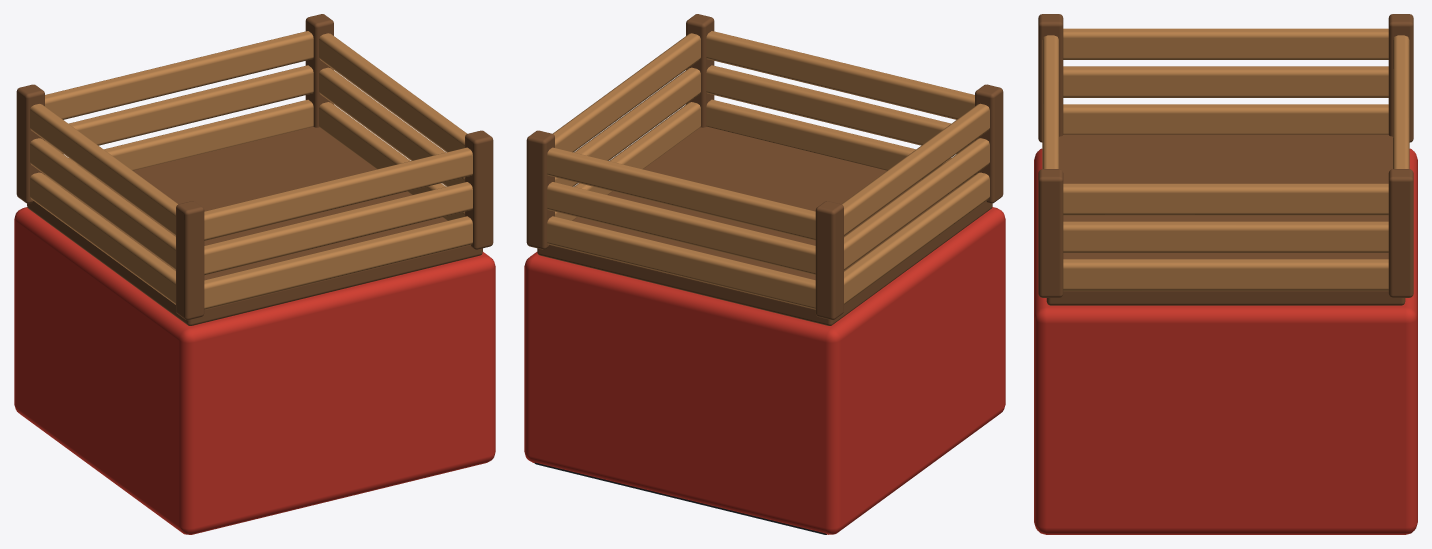
File: station-crate.glb
3 renders of one model, left to right at view 1: azimuth 30°, elevation 25°; view 2: azimuth 150°, elevation 25°; view 3: azimuth 270°, elevation 25°, orthographic. The views are drawn at different scales.
Visible parts, largest first — view 1: Crate; view 2: Crate; view 3: Crate.
Boxes of the visible parts, <box> form: Crate: <box>14,14,495,534</box>; Crate: <box>524,14,1005,534</box>; Crate: <box>1034,14,1417,534</box>.
Bounding box in the file's own units: 0.96 × 0.95 × 0.92.
